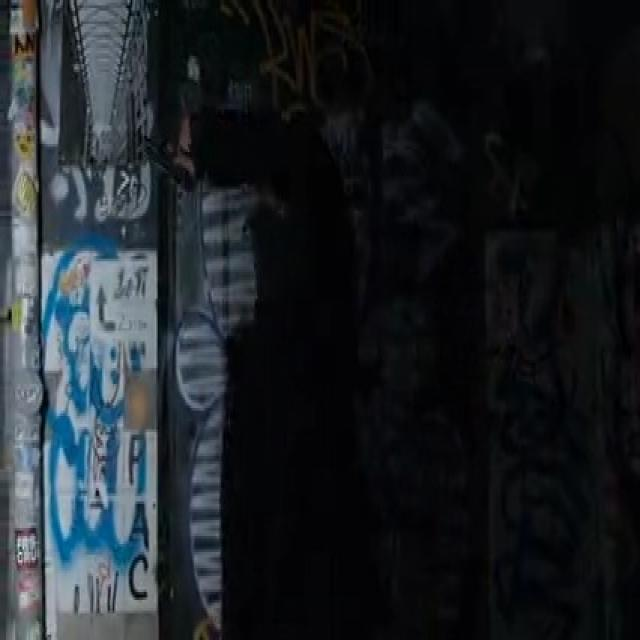Gun_Holder: (136, 124, 221, 213)
